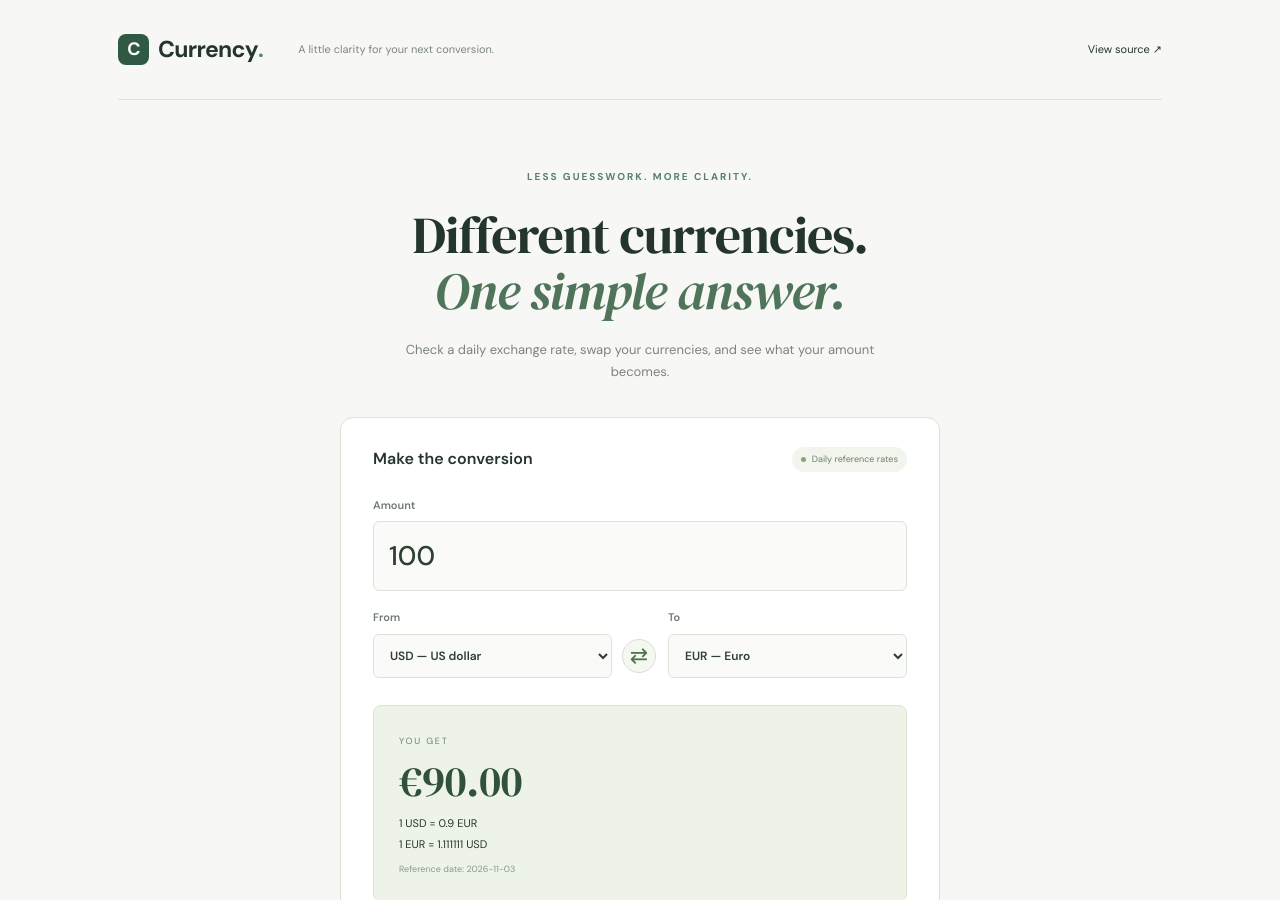
Test: swaps currencies and requests the reversed pair
This screenshot has width=1280, height=900.
Check: the text named "Converted amount" is shown, box [399, 751, 522, 810]
Click the button named "Swap currencies": (639, 656) [622, 638, 656, 672]
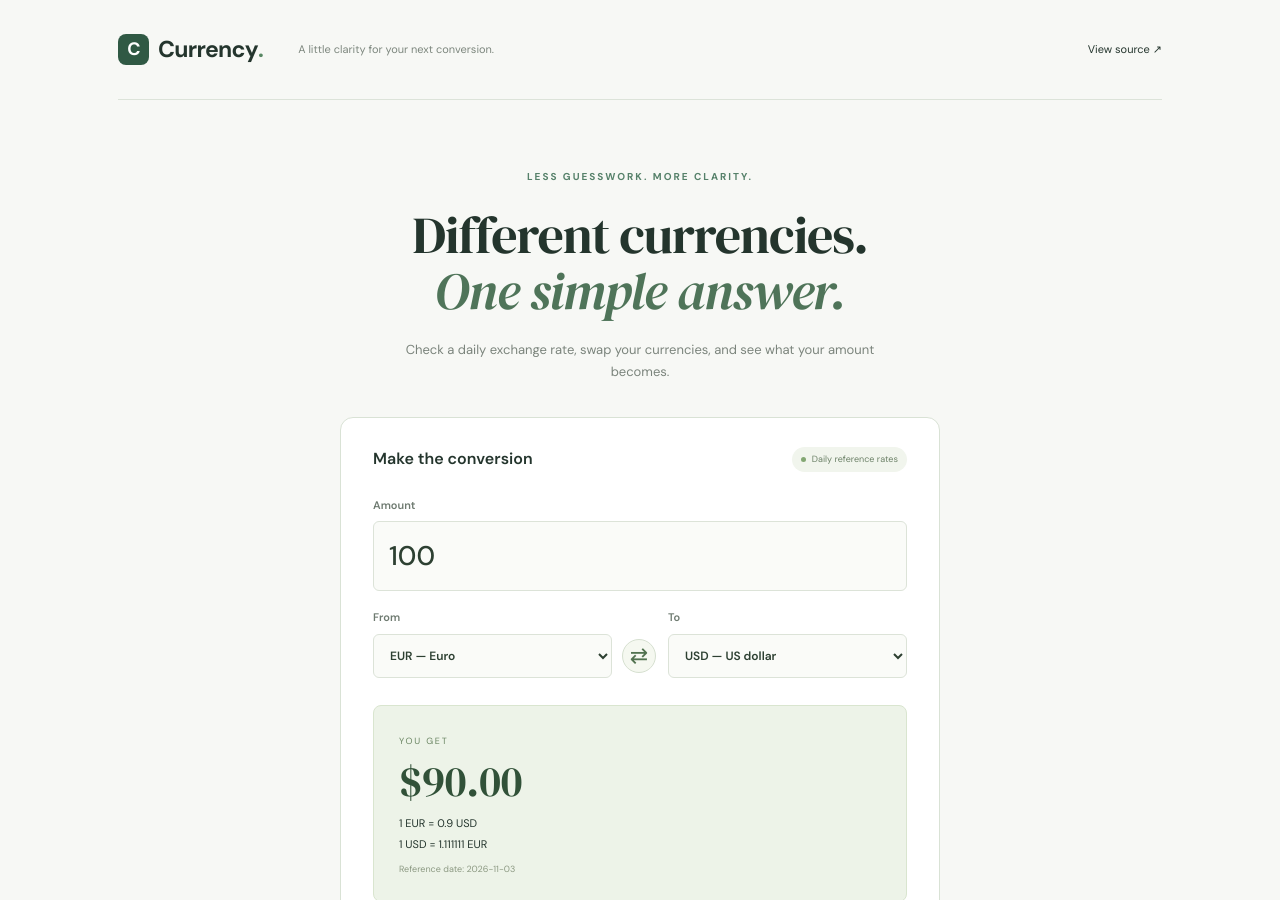
Check: the text named "Converted amount" is shown, box [399, 751, 522, 810]
Check: the dropdown named "From currency" shows "EUR — Euro", box [373, 634, 612, 678]
